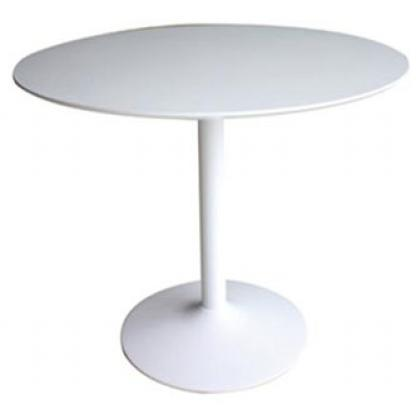table: (9, 21, 411, 394)
